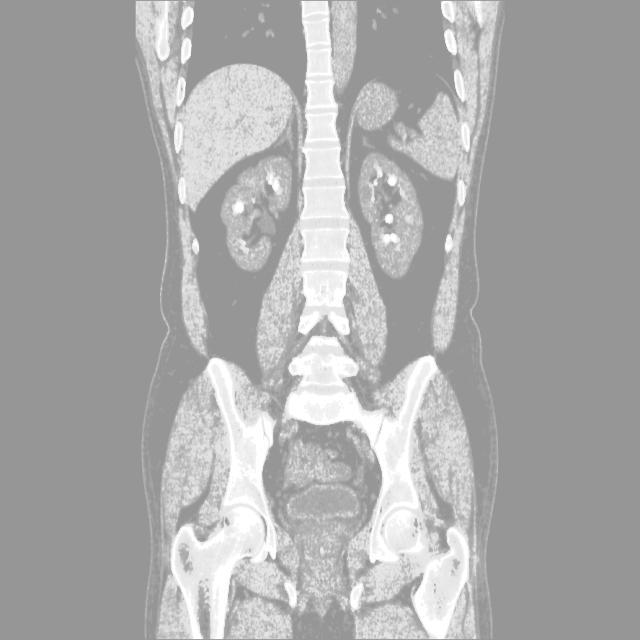STONE: (214, 139, 467, 282)
